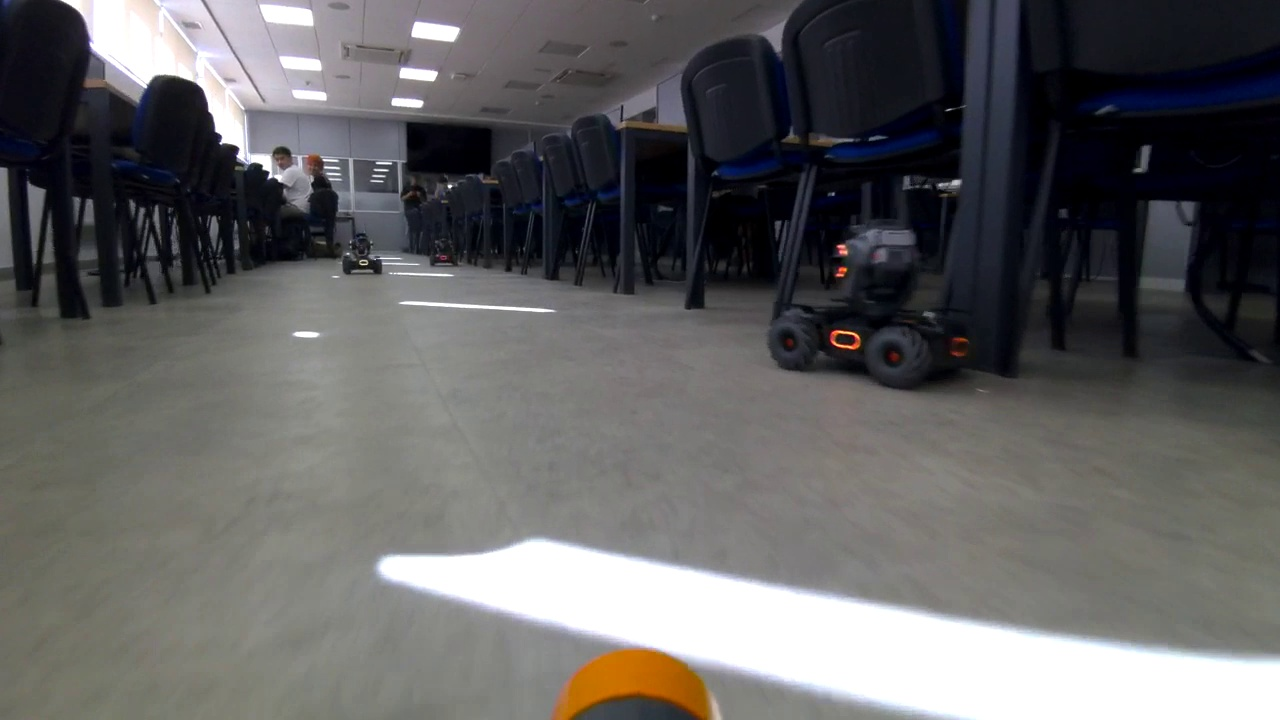robot: (772, 218, 972, 385), (339, 232, 381, 278)
